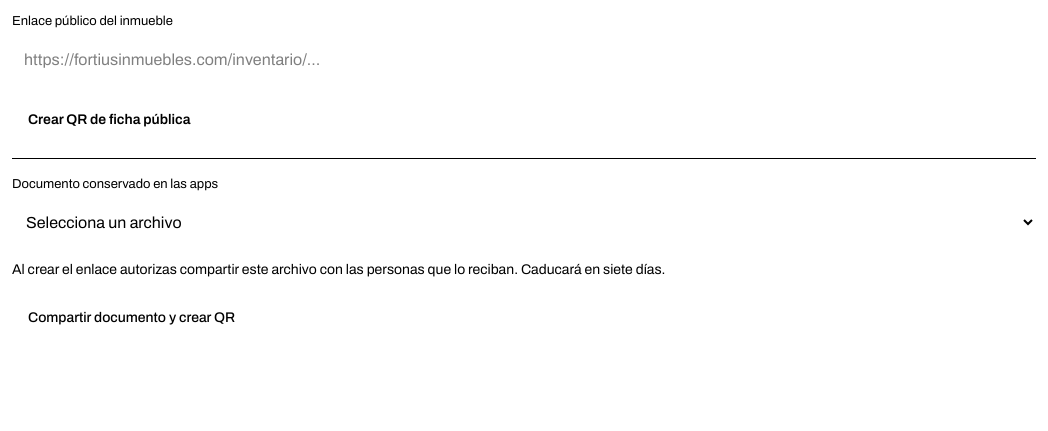
Test: un enlace escrito no genera QR antes de confirmar y una URL ajena se rechaza al confirmar
Step 1. Type "https://outside.invalid/inventario/a" into the field labelled "Enlace público del inmueble" → (524, 60), box [12,38,1036,82]
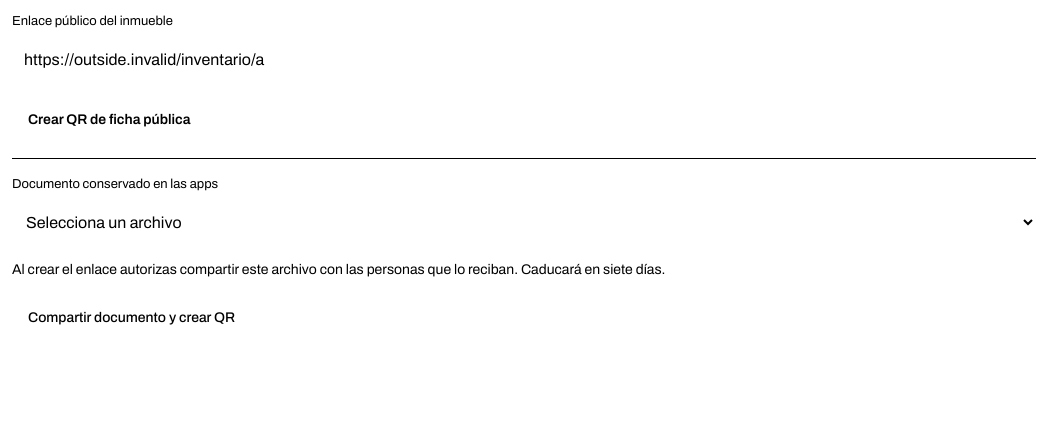
Step 2. Click the button "Crear QR de ficha pública" → (109, 120), box [12,98,206,142]
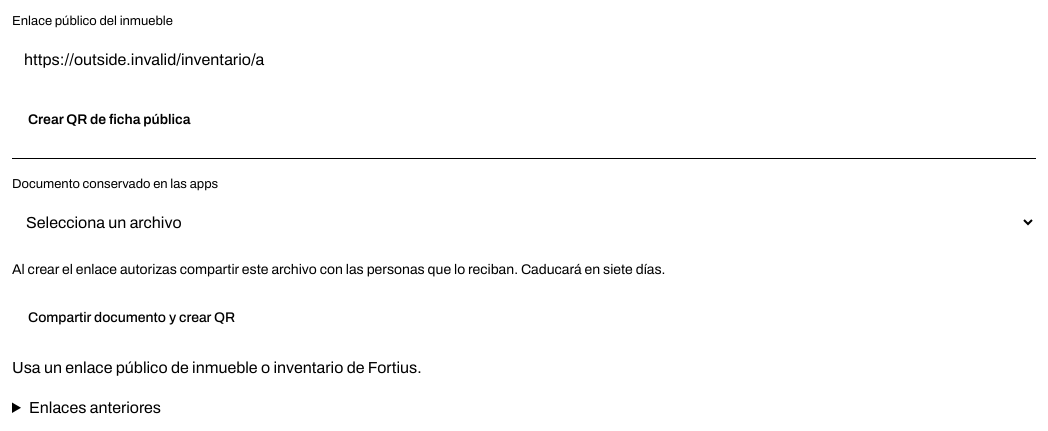
Now the message shows "enlace público", box [12,359,422,376]
